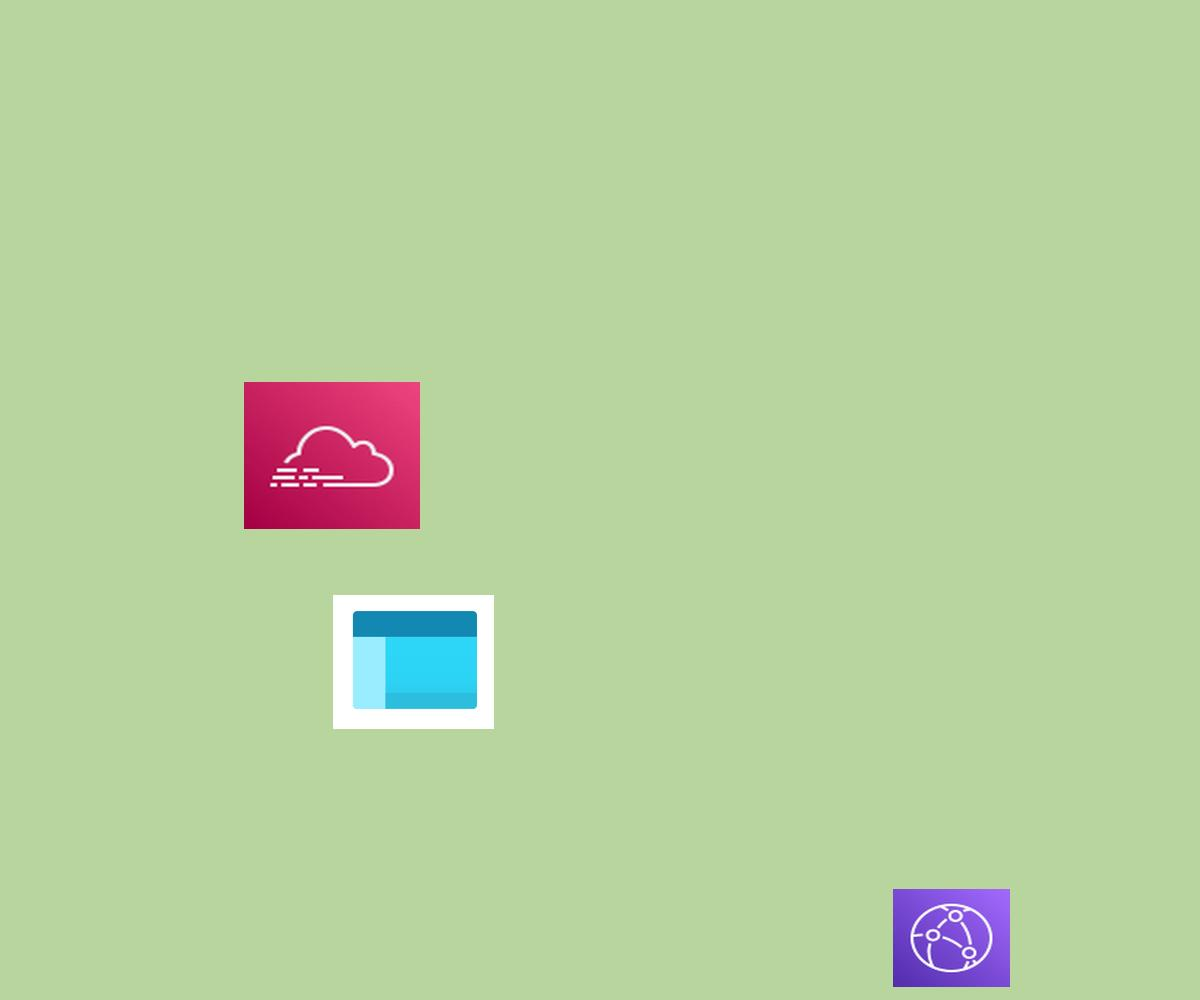AWS-CloudFront: (893, 889, 1010, 987)
AWS-CloudTrail: (244, 382, 420, 529)
Azure_management-portal: (333, 595, 494, 729)
